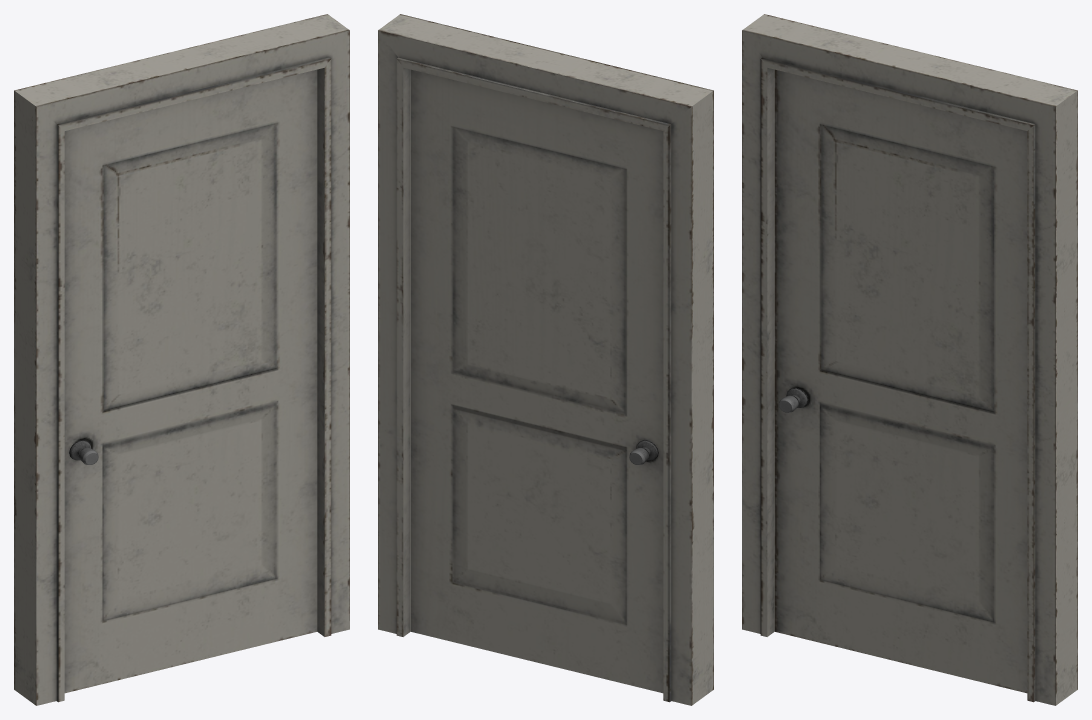
The model's file is Door.fbx.
3 views of the same model, side by side, from view 1: azimuth 30°, elevation 25°; view 2: azimuth 150°, elevation 25°; view 3: azimuth 330°, elevation 25° (orthographic).
Parts seen in each view (by area): view 1: Door, Door_Border; view 2: Door, Door_Border; view 3: Door, Door_Border.
Part boxes in pixels (left/top/right/bottom): Door: left=64, top=69, right=317, bottom=693; Door_Border: left=14, top=14, right=349, bottom=705; Door: left=410, top=69, right=663, bottom=693; Door_Border: left=378, top=14, right=713, bottom=705; Door: left=774, top=69, right=1027, bottom=693; Door_Border: left=742, top=14, right=1077, bottom=705.
Bounding box in the file's own units: 1.13 × 2.06 × 0.2148.
